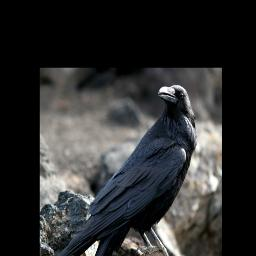Crow: (42, 84, 198, 256)
